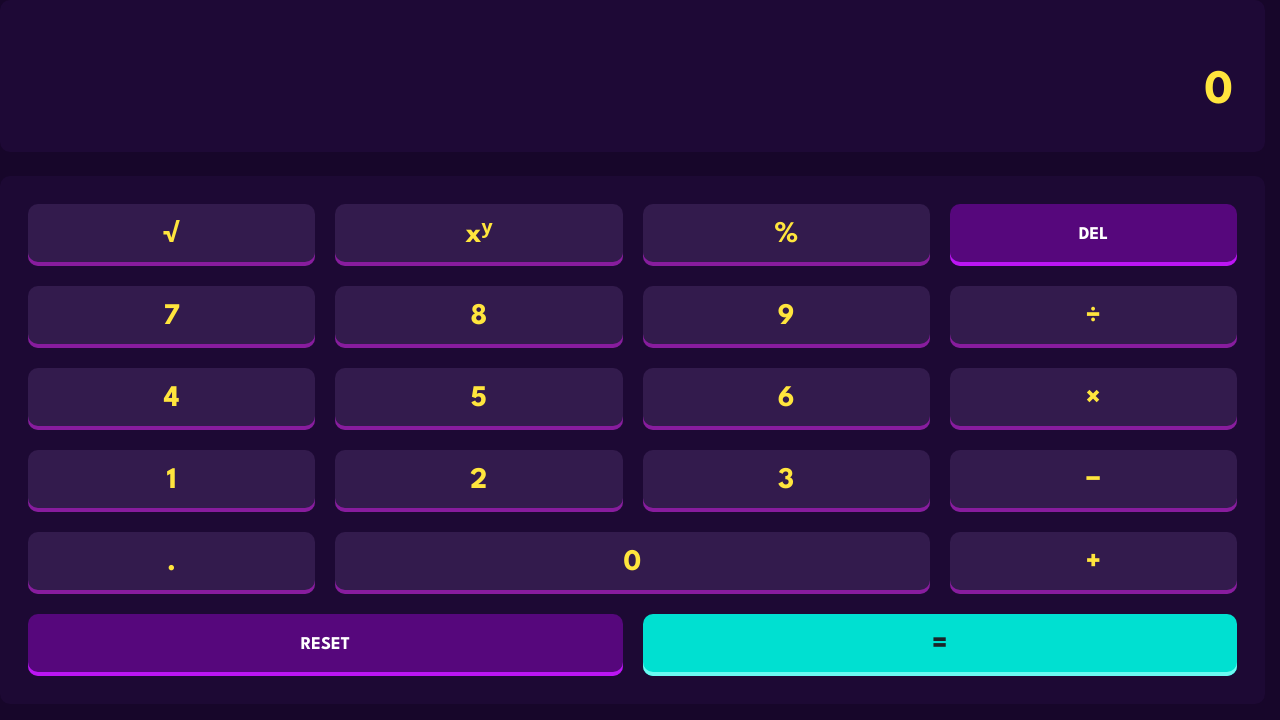
Test: Calculator › error handling › shows a network failure in plain language
Click the button "2" at (479, 481), box [335,450,623,512]
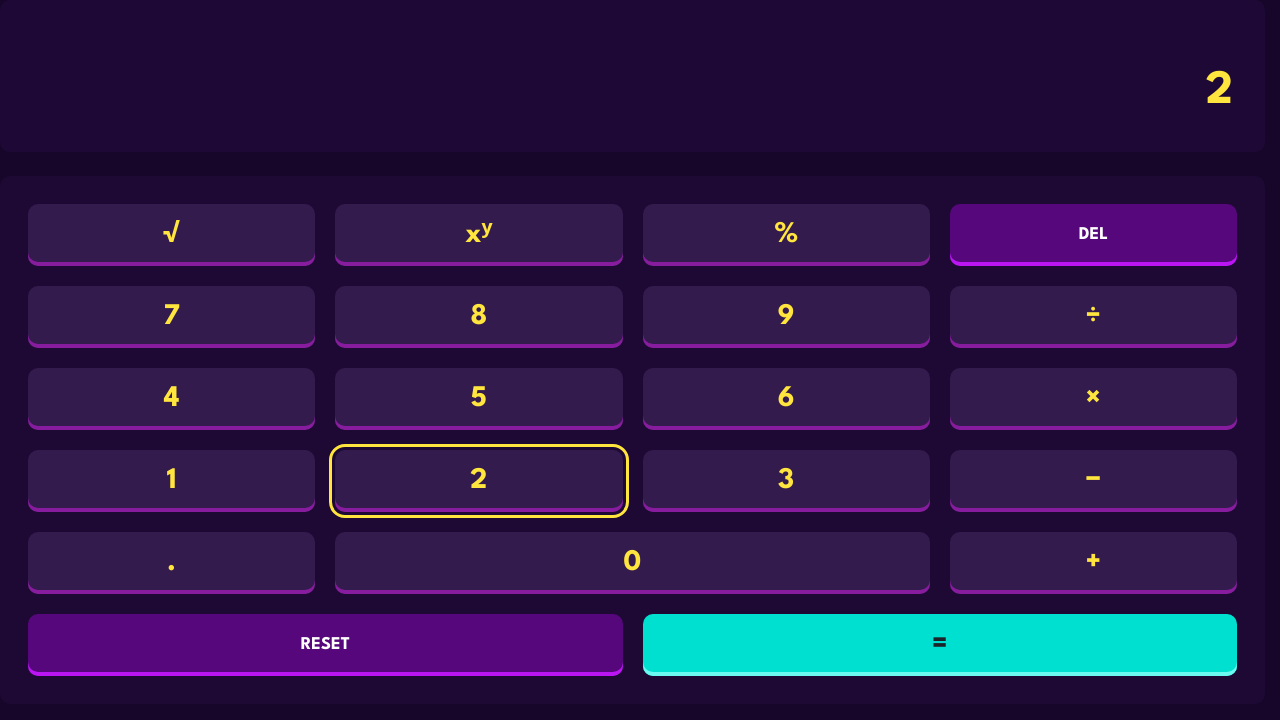
Click the button "+" at (1093, 563), box [950,532,1237,594]
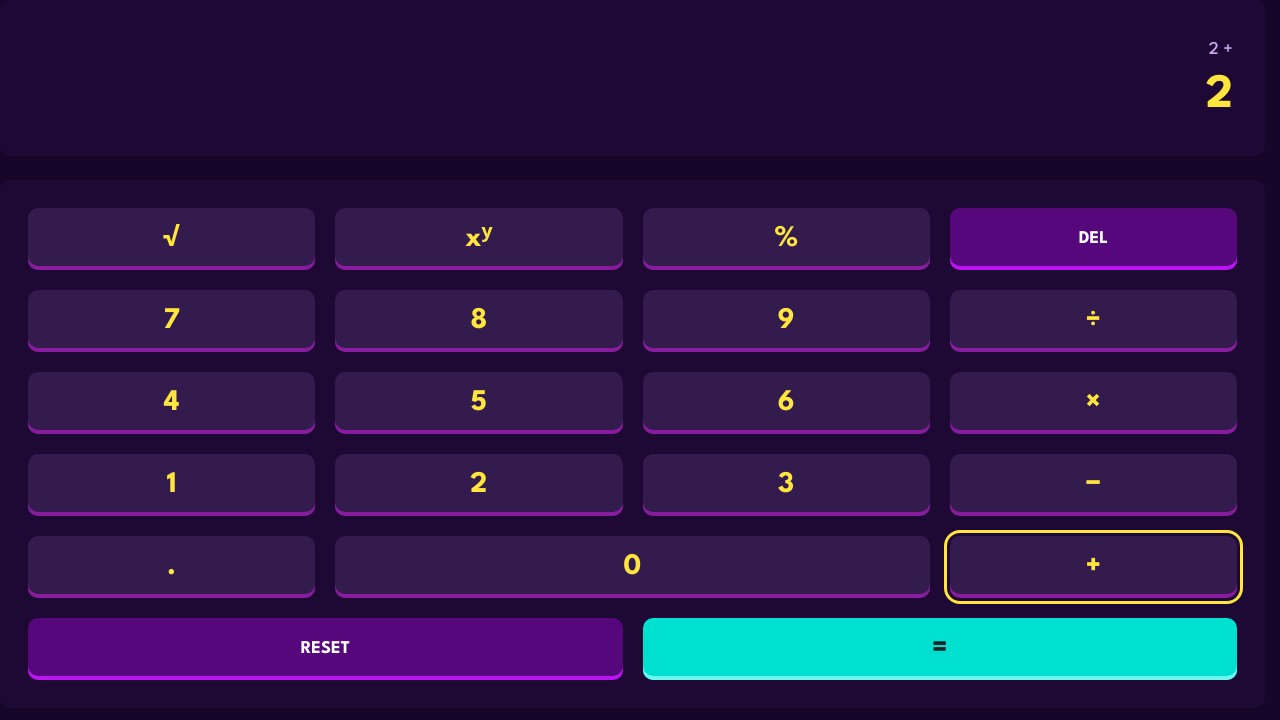
Click the button "2" at (479, 485), box [335,454,623,516]
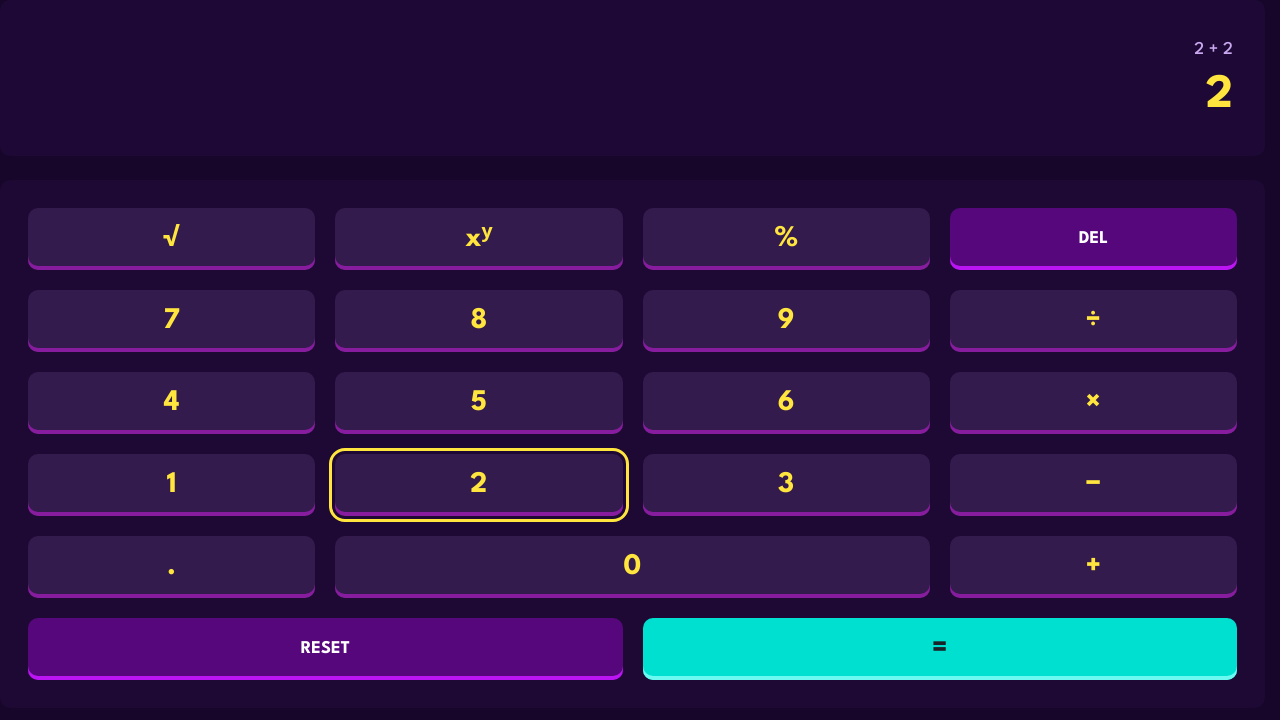
Click the button with test id "key-equals" at (940, 649), box [642,618,1237,680]
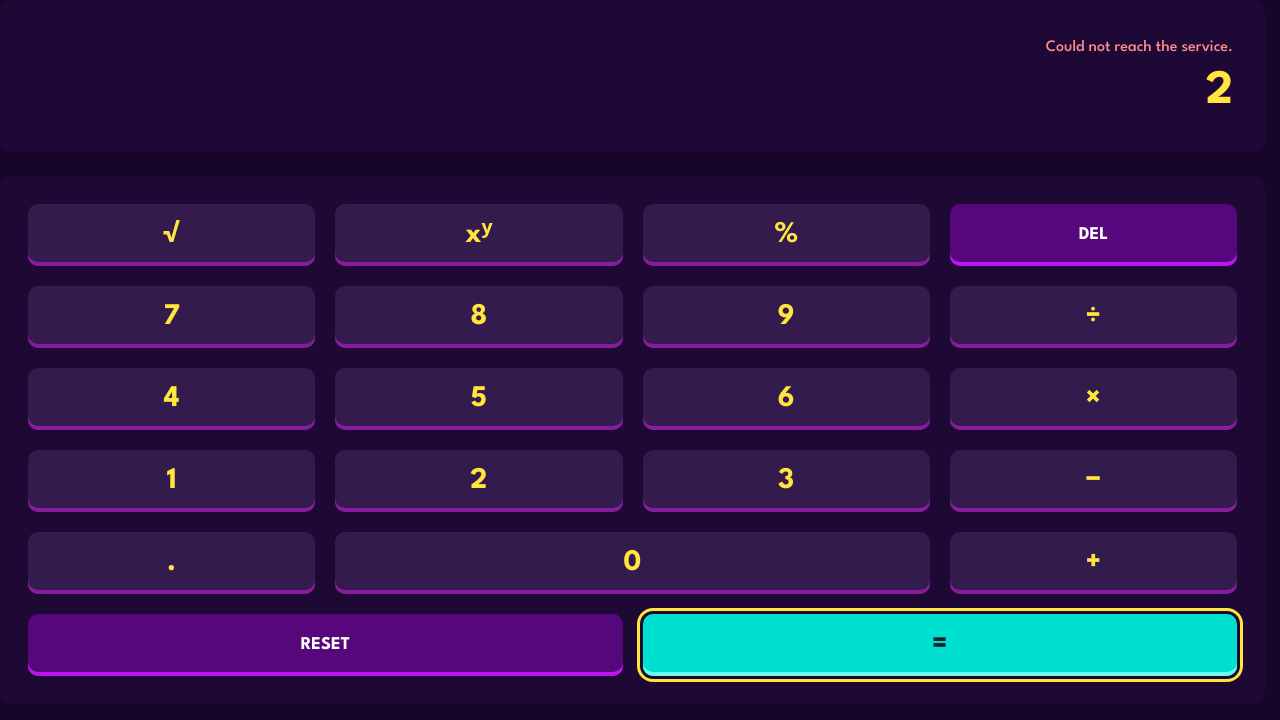
Check: the message reads "Could not reach the service.", box [1046,40,1233,55]
